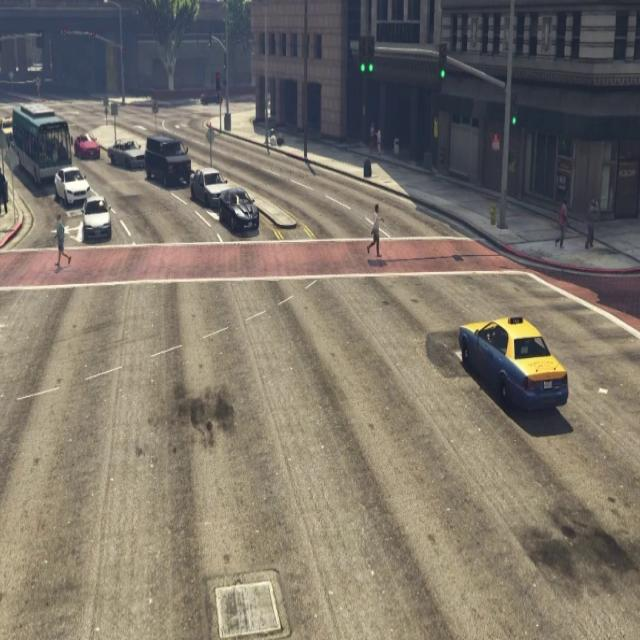Green-Signal: (352, 25, 382, 96), (432, 32, 453, 102), (506, 80, 524, 144)
